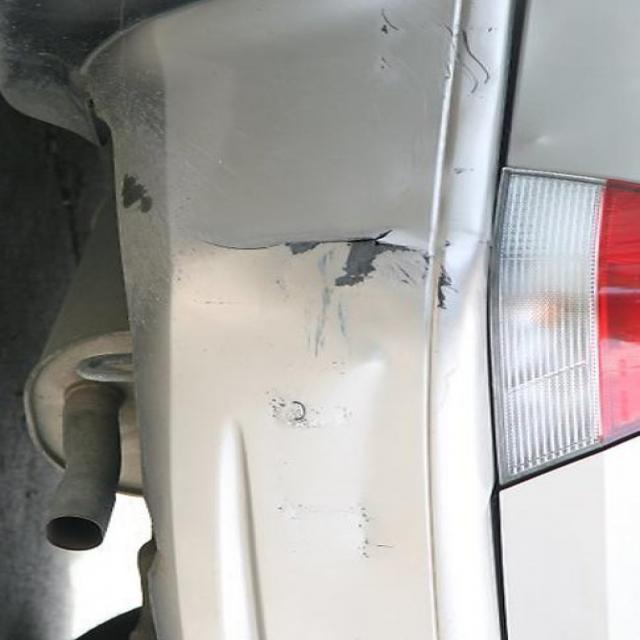scratch: (184, 198, 494, 318), (80, 156, 165, 252)
